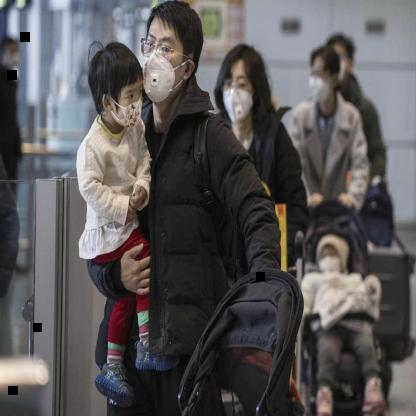mask: (142, 0, 206, 107), (89, 36, 144, 134), (218, 40, 270, 131), (305, 40, 345, 108), (315, 232, 351, 277)
